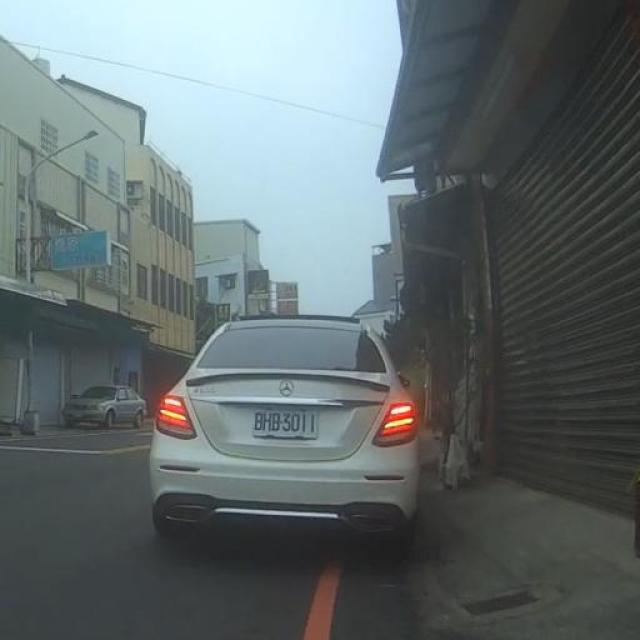illegalparking: (150, 316, 419, 541)
